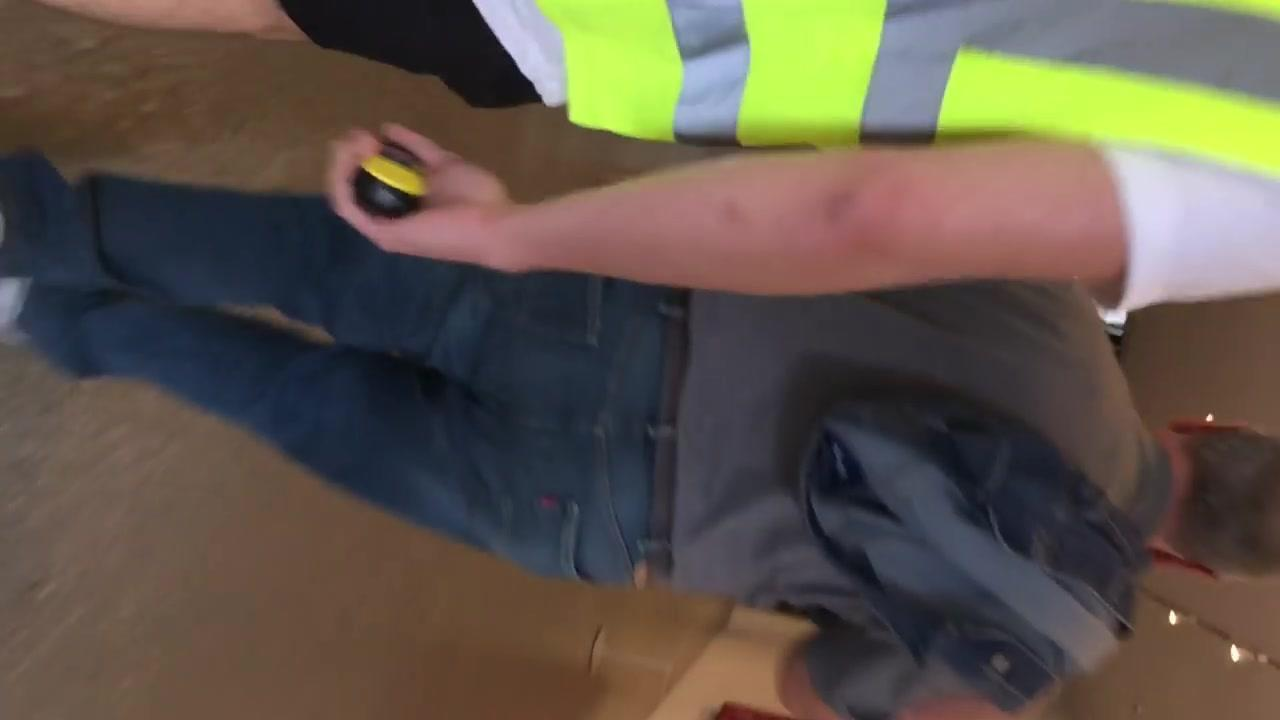vest: (534, 1, 1278, 181)
